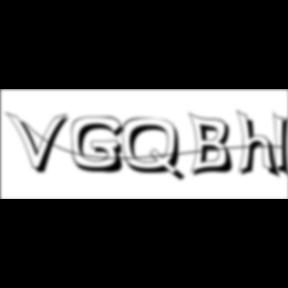B: (189, 111, 239, 179)
G: (72, 116, 130, 176)
Q: (122, 117, 188, 184)
V: (5, 110, 72, 176)
h: (236, 108, 284, 182)
